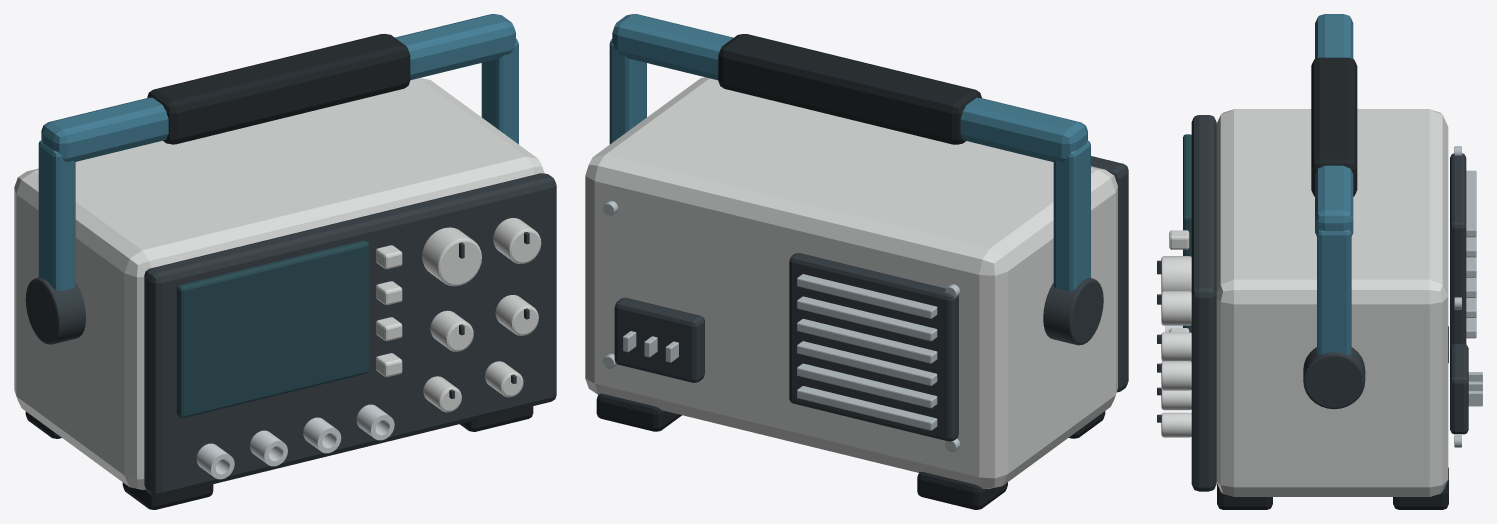
Rendered from city-bench-oscilloscope.glb.
The picture shows the model from 3 angles, left to right: view 1: azimuth 30°, elevation 25°; view 2: azimuth 150°, elevation 25°; view 3: azimuth 270°, elevation 25°; orthographic projection. The views are drawn at different scales.
Parts seen in each view (by area): view 1: Assembly | Warm light instrument enclosure, Assembly | Dark instrument trim, Assembly | Opaque inactive screen or lens, Assembly | Muted blue instrument finish, Assembly | Dark cable and grip rubber, Assembly | Bright connector metal; view 2: Assembly | Warm light instrument enclosure, Assembly | Dark instrument trim, Assembly | Dark cable and grip rubber, Assembly | Muted blue instrument finish, Assembly | Satin instrument metal; view 3: Assembly | Warm light instrument enclosure, Assembly | Dark instrument trim, Assembly | Muted blue instrument finish, Assembly | Dark cable and grip rubber, Assembly | Satin instrument metal, Assembly | Opaque inactive screen or lens.
Part boxes in pixels (x1,y1,x2,y2): Assembly | Warm light instrument enclosure: [14, 78, 544, 489]; Assembly | Dark instrument trim: [25, 173, 556, 496]; Assembly | Opaque inactive screen or lens: [176, 240, 368, 418]; Assembly | Muted blue instrument finish: [38, 14, 518, 291]; Assembly | Dark cable and grip rubber: [25, 34, 533, 509]; Assembly | Bright connector metal: [196, 404, 394, 479]; Assembly | Warm light instrument enclosure: [585, 77, 1117, 488]; Assembly | Dark instrument trim: [614, 156, 1128, 441]; Assembly | Dark cable and grip rubber: [596, 34, 1105, 509]; Assembly | Muted blue instrument finish: [609, 14, 1090, 291]; Assembly | Satin instrument metal: [603, 201, 960, 451]; Assembly | Warm light instrument enclosure: [1161, 109, 1448, 496]; Assembly | Dark instrument trim: [1157, 115, 1468, 491]; Assembly | Muted blue instrument finish: [1315, 14, 1353, 355]; Assembly | Dark cable and grip rubber: [1191, 57, 1448, 509]; Assembly | Satin instrument metal: [1454, 146, 1482, 447]; Assembly | Opaque inactive screen or lens: [1183, 134, 1191, 332].
Bounding box in the file's own units: 0.4 × 0.284 × 0.263.
